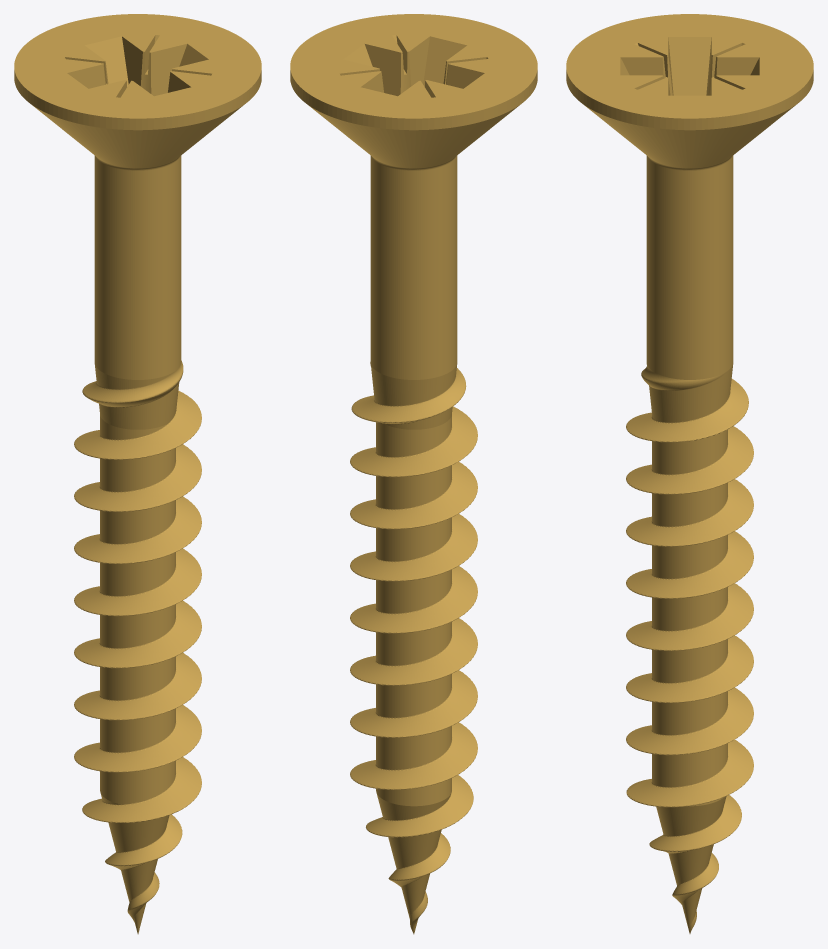
The model's file is model_full.glb.
3 views of the same model, side by side, from view 1: azimuth 30°, elevation 25°; view 2: azimuth 150°, elevation 25°; view 3: azimuth 270°, elevation 25° (orthographic).
Visible parts, largest first — view 1: geometry_0; view 2: geometry_0; view 3: geometry_0.
Boxes of the visible parts, <box> form: geometry_0: <box>14,14,261,934</box>; geometry_0: <box>290,14,537,934</box>; geometry_0: <box>566,14,813,933</box>.
Size of the model in its own units: 0.00775 by 0.03 by 0.00775.
